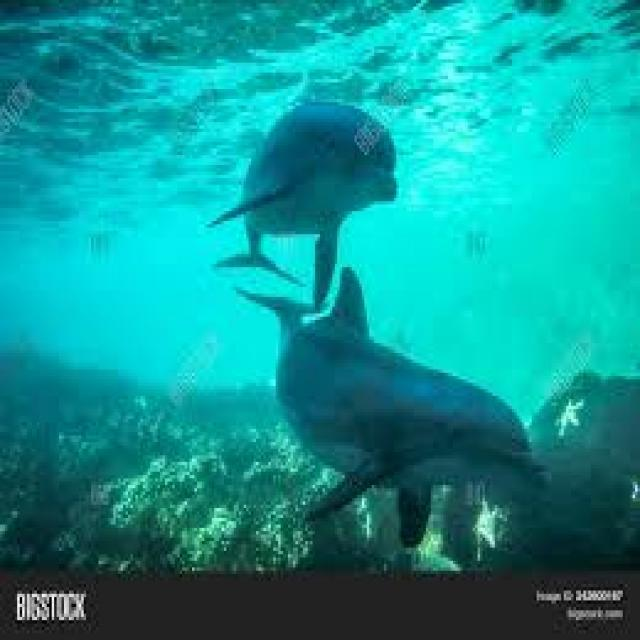dolphin: (266, 290, 539, 544)
